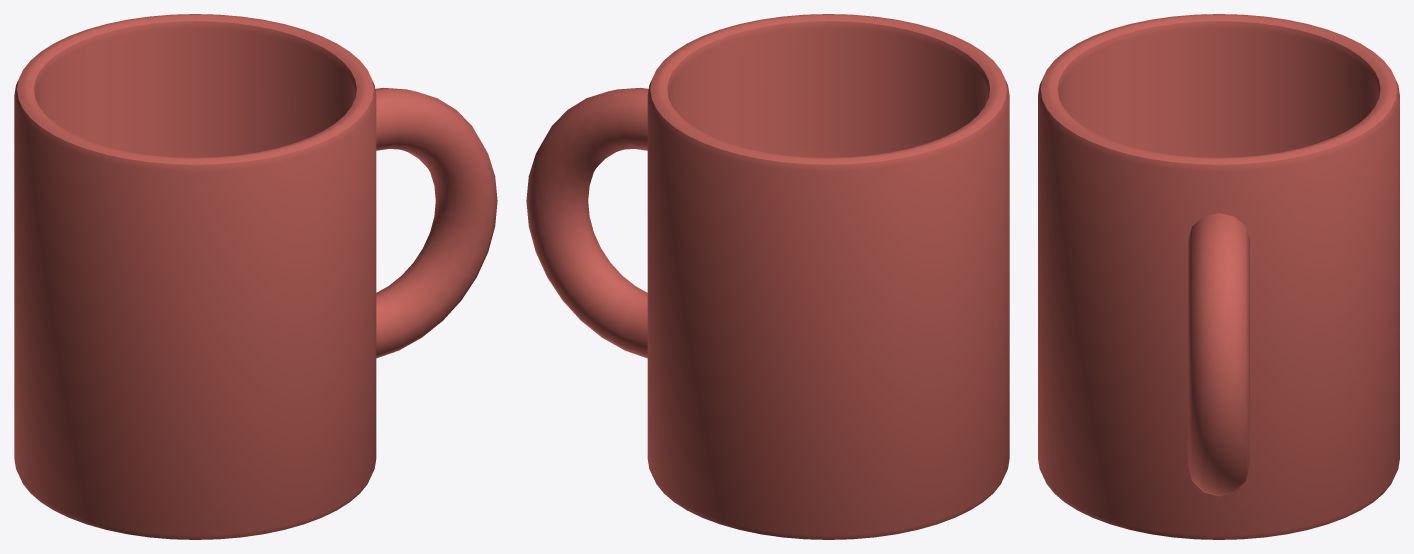
File: mug_empty.glb
3 views of the same model, side by side, from view 1: azimuth 30°, elevation 25°; view 2: azimuth 150°, elevation 25°; view 3: azimuth 270°, elevation 25° (orthographic).
Parts seen in each view (by area): view 1: mug_empty; view 2: mug_empty; view 3: mug_empty.
Part boxes in pixels (x1,y1,x2,y2): mug_empty: [14, 14, 497, 539]; mug_empty: [526, 14, 1009, 539]; mug_empty: [1038, 14, 1399, 539].
Bounding box in the file's own units: 0.119 × 0.095 × 0.082.
